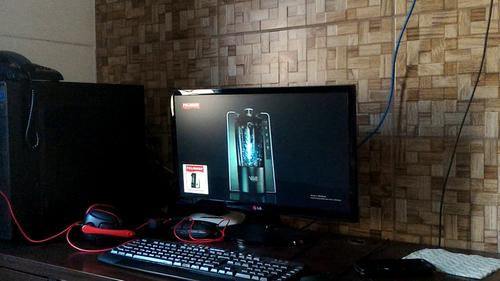Polishop #1: (182, 162, 208, 193)
